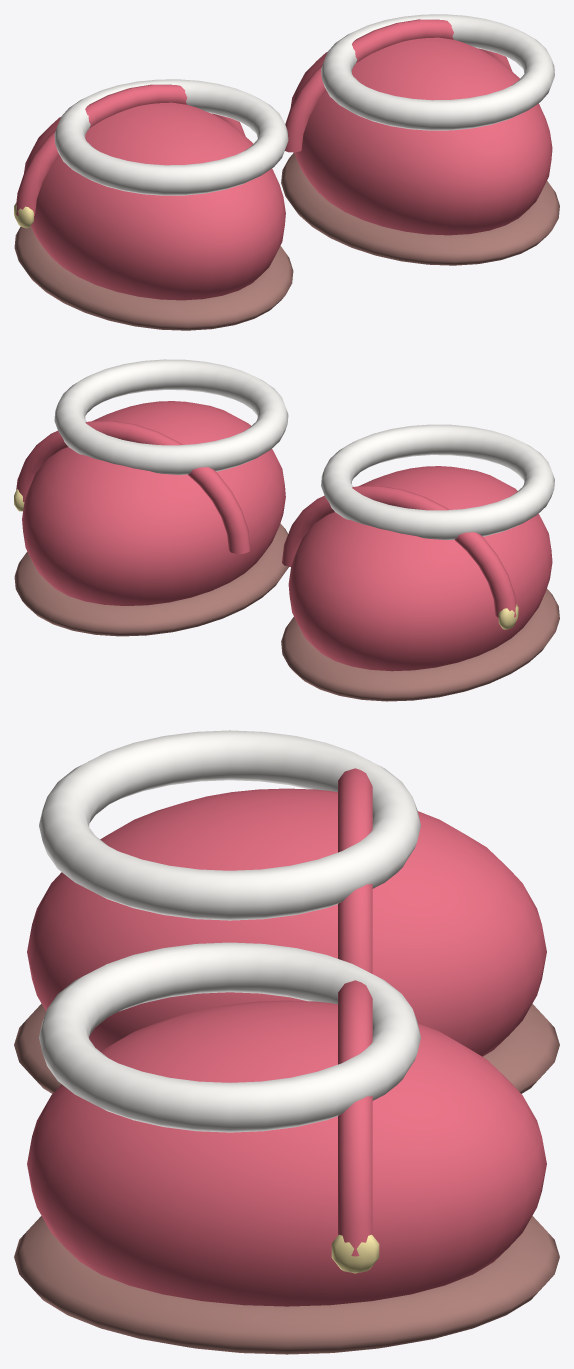
File: mary_janes.glb
3 renders of one model, top to bottom at view 1: azimuth 30°, elevation 25°; view 2: azimuth 150°, elevation 25°; view 3: azimuth 270°, elevation 25°, orthographic. The views are drawn at different scales.
Parts seen in each view (by area): view 1: LegL, LegR; view 2: LegL, LegR; view 3: LegR, LegL.
Part boxes in pixels (x1,y1,x2,y2): LegL: (14, 79, 293, 330); LegR: (281, 14, 559, 265); LegL: (281, 424, 559, 701); LegR: (14, 359, 288, 636); LegR: (14, 942, 559, 1354); LegL: (14, 730, 559, 1093).
Bounding box in the file's own units: 0.4119 × 0.1336 × 0.2394.
